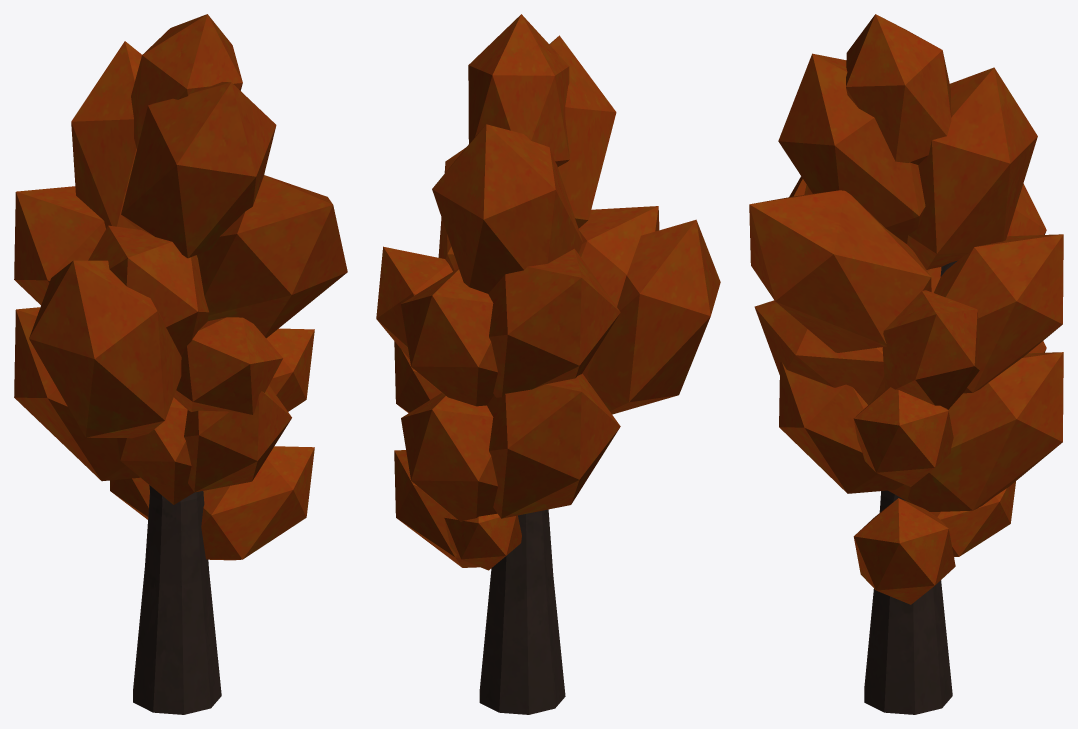
File: tree-green-orange-flowers_9.fbx
The picture shows the model from 3 angles, left to right: view 1: azimuth 30°, elevation 25°; view 2: azimuth 150°, elevation 25°; view 3: azimuth 270°, elevation 25°; orthographic projection. The views are drawn at different scales.
Parts seen in each view (by area): view 1: Icosphere.134; view 2: Icosphere.134; view 3: Icosphere.134.
Boxes of the visible parts, bbox=[...] form: Icosphere.134: bbox=[14, 14, 347, 714]; Icosphere.134: bbox=[376, 14, 720, 714]; Icosphere.134: bbox=[749, 14, 1063, 714].
Size of the model in its own units: 180 by 387 by 160.
